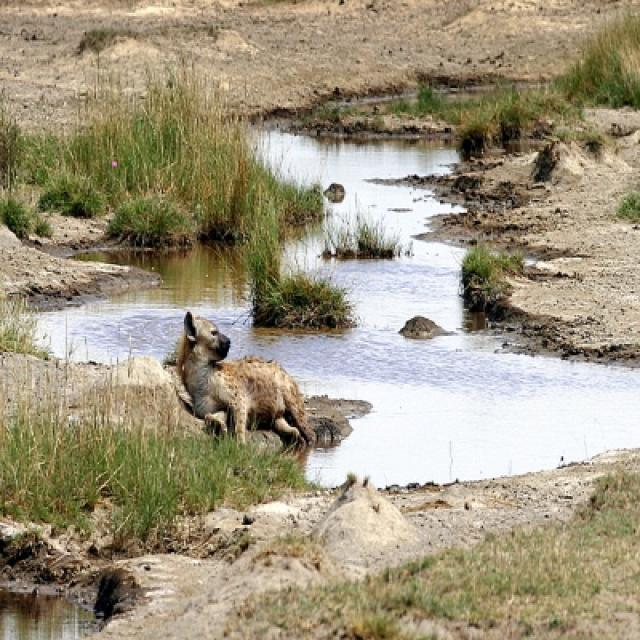hyena: (162, 315, 314, 464)
